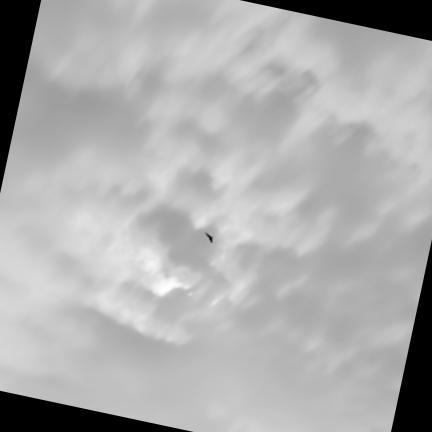Shahed: (206, 233, 213, 243)
